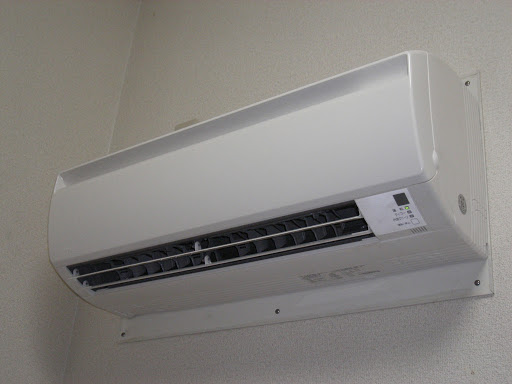AC: (55, 174, 509, 330)
